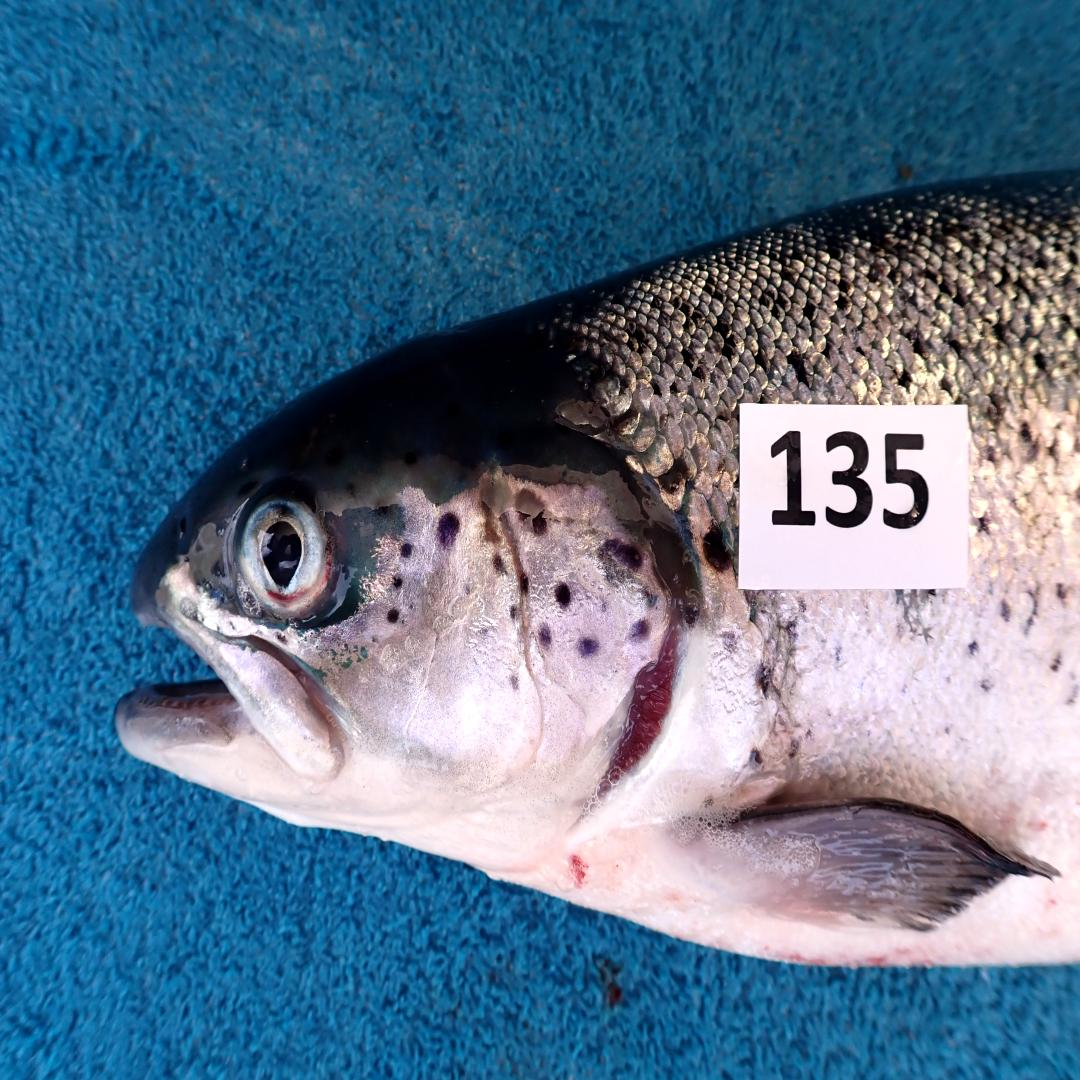roi: (339, 474, 672, 885)
